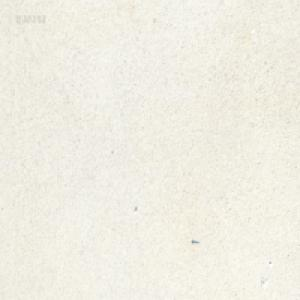Nail: (191, 238, 199, 243)
